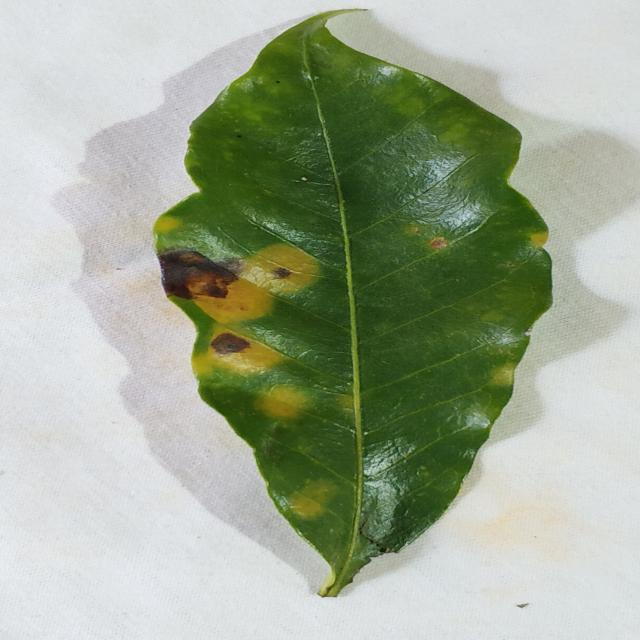Enfermedad-Roya: (150, 13, 554, 599)
